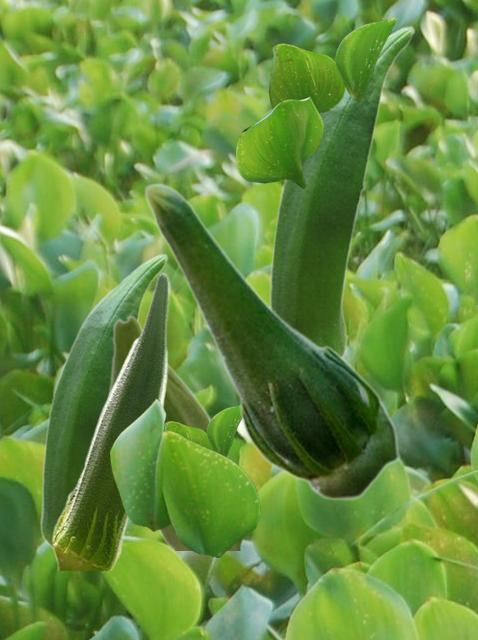okra: (143, 182, 399, 500), (266, 25, 414, 358), (39, 253, 167, 549), (51, 271, 169, 569), (107, 315, 241, 549)
